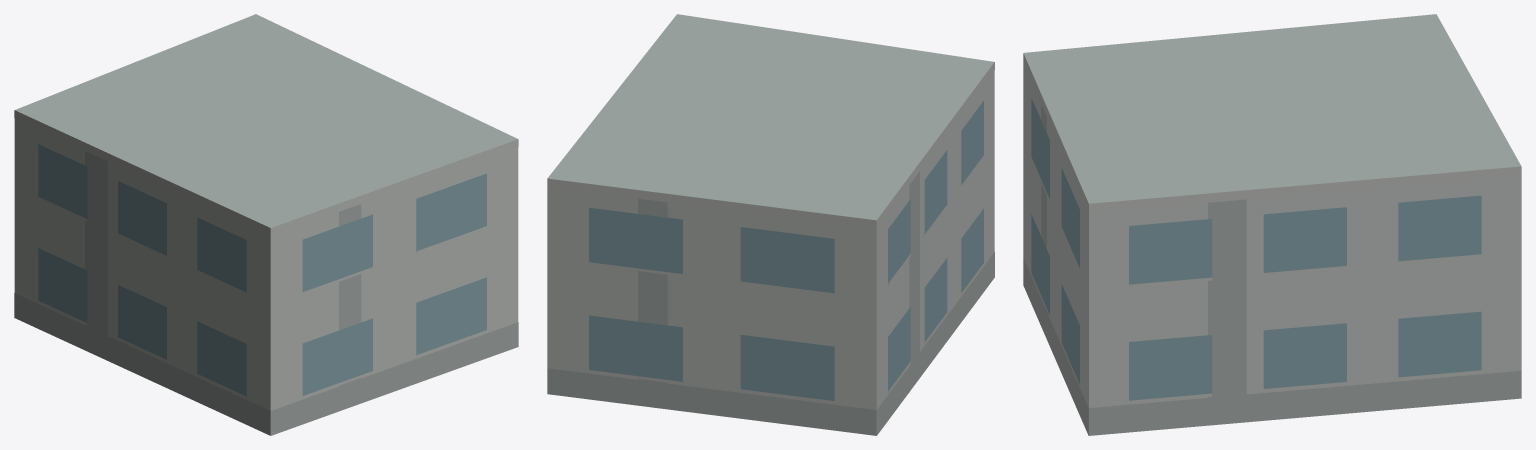
The model's file is residential-f44f8022-9e3b-4ac8-96e9-7142230fb222.glb.
The picture shows the model from 3 angles, left to right: view 1: azimuth 30°, elevation 25°; view 2: azimuth 150°, elevation 25°; view 3: azimuth 270°, elevation 25°; orthographic projection. The views are drawn at different scales.
Visible parts, largest first — view 1: residential-f44f8022-9e3b-4ac8-96e9-7142230fb222.tmp; view 2: residential-f44f8022-9e3b-4ac8-96e9-7142230fb222.tmp; view 3: residential-f44f8022-9e3b-4ac8-96e9-7142230fb222.tmp.
Part boxes in pixels (left/top/right/bottom): residential-f44f8022-9e3b-4ac8-96e9-7142230fb222.tmp: left=14, top=14, right=518, bottom=435; residential-f44f8022-9e3b-4ac8-96e9-7142230fb222.tmp: left=547, top=14, right=994, bottom=435; residential-f44f8022-9e3b-4ac8-96e9-7142230fb222.tmp: left=1023, top=14, right=1521, bottom=435.
Bounding box in the file's own units: 10.71 × 6.1 × 11.88.
